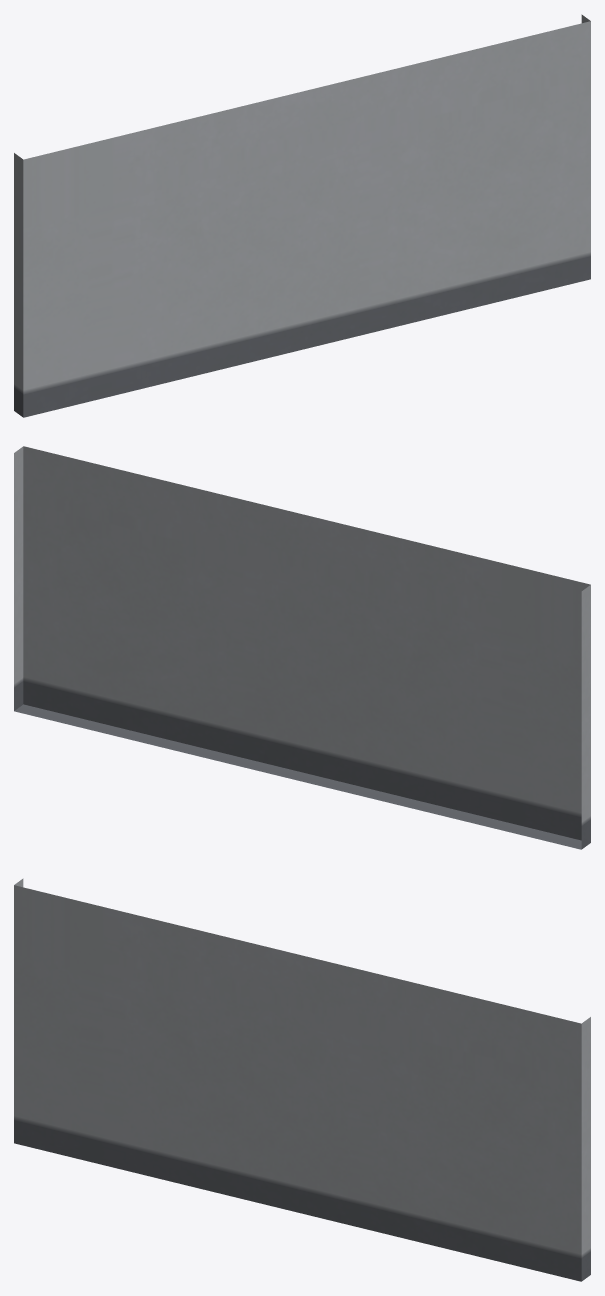
Rendered from BgMD_Tanihira_Wall1_1001.fbx.
3 renders of one model, top to bottom at view 1: azimuth 30°, elevation 25°; view 2: azimuth 150°, elevation 25°; view 3: azimuth 330°, elevation 25°, orthographic.
Visible parts, largest first — view 1: polySurface189; view 2: polySurface189; view 3: polySurface189.
Boxes of the visible parts, <box> form: polySurface189: <box>14,14,590,417</box>; polySurface189: <box>14,446,590,849</box>; polySurface189: <box>14,878,590,1281</box>.
Bounding box in the file's own units: 690 × 300 × 20.
